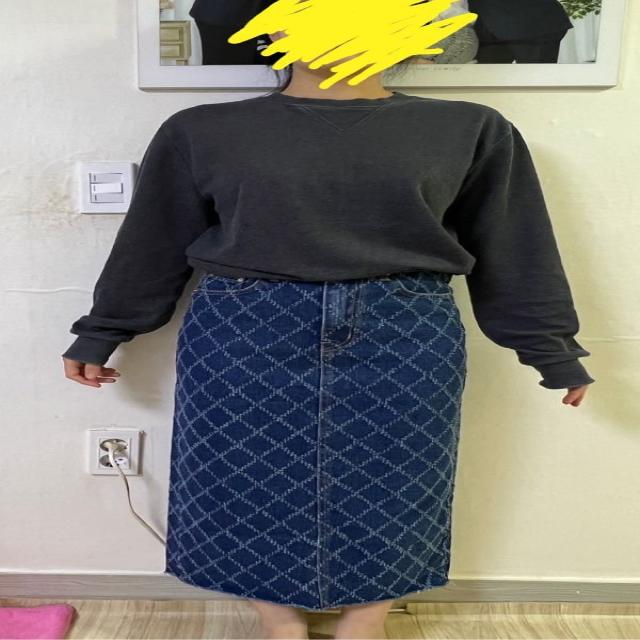mtm: (66, 84, 597, 390)
skirt: (164, 274, 462, 608)
